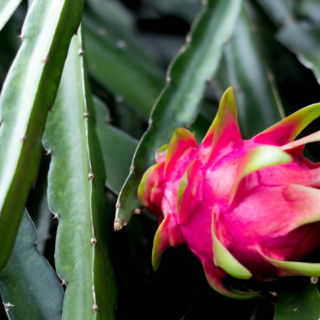thanh_long: (136, 108, 320, 288)
